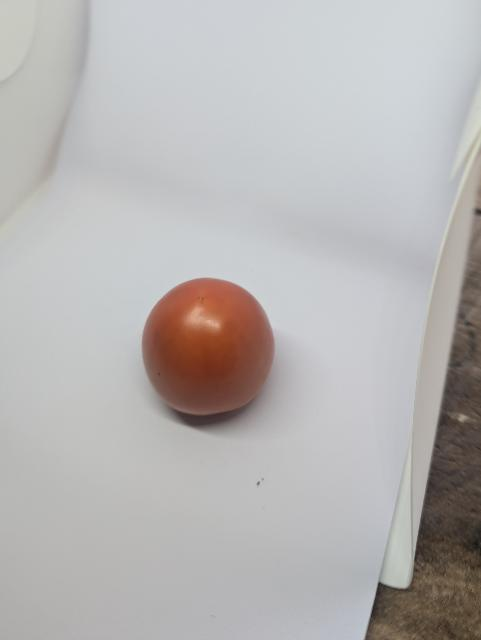red: (121, 264, 288, 430)
